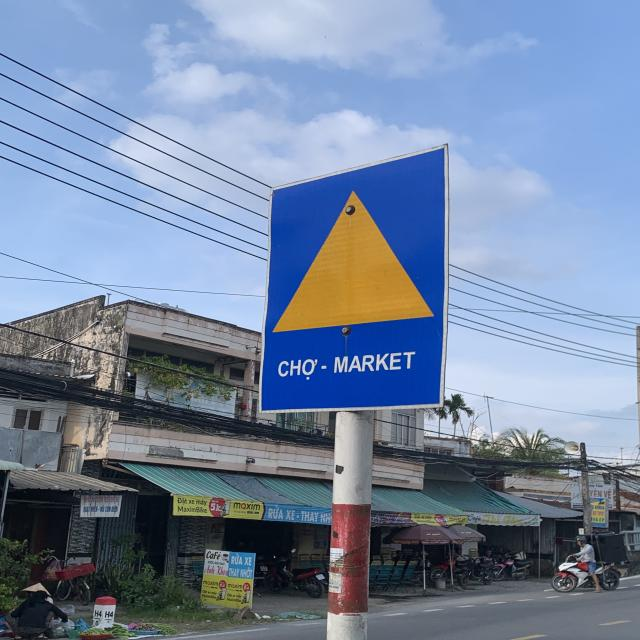Cho_Quay_Xe: (260, 146, 446, 413)
